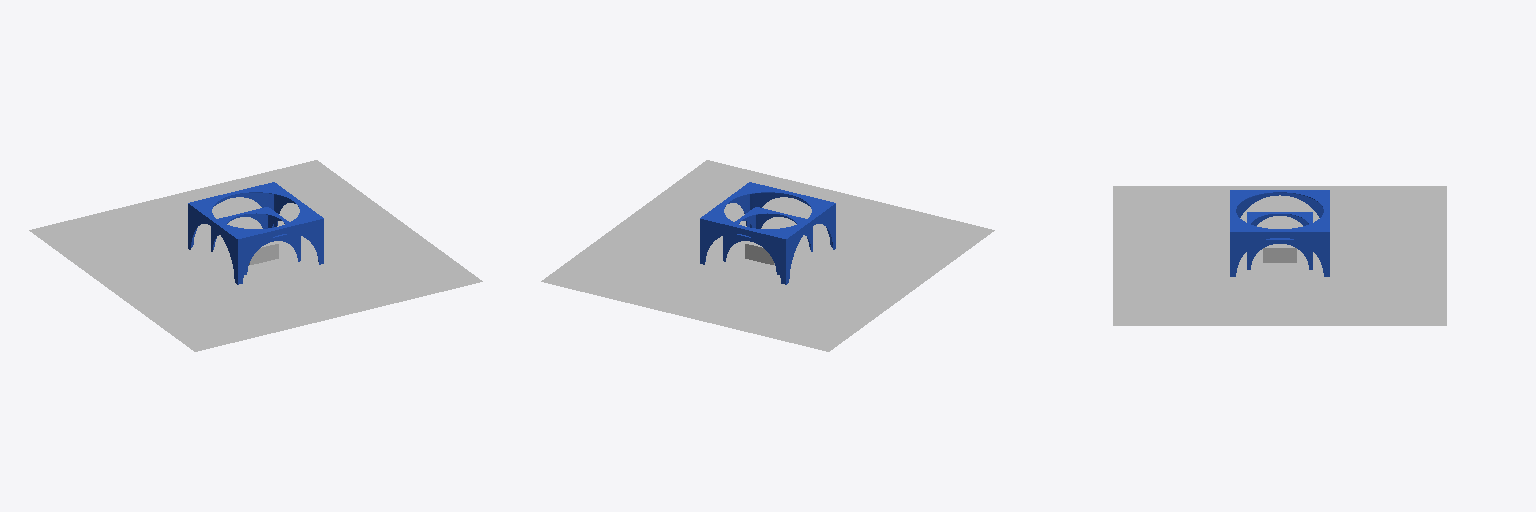
The model's file is multi_objs3.obj.
The picture shows the model from 3 angles: view 1: azimuth 30°, elevation 25°; view 2: azimuth 150°, elevation 25°; view 3: azimuth 270°, elevation 25°; orthographic projection.
Parts seen in each view (by area): view 1: plane, Cube.002, Cube.001; view 2: plane, Cube.002, Cube.001; view 3: plane, Cube.002, Cube.001, Cube.003.
Boxes of the visible parts, <box> form: plane: <box>29,160,482,351</box>; Cube.002: <box>188,182,323,284</box>; Cube.001: <box>211,207,300,274</box>; plane: <box>541,160,994,351</box>; Cube.002: <box>700,182,835,284</box>; Cube.001: <box>723,207,812,274</box>; plane: <box>1113,186,1446,325</box>; Cube.002: <box>1230,190,1329,276</box>; Cube.001: <box>1247,212,1312,269</box>; Cube.003: <box>1263,244,1296,262</box>.
Size of the model in its own units: 20 by 6 by 20.